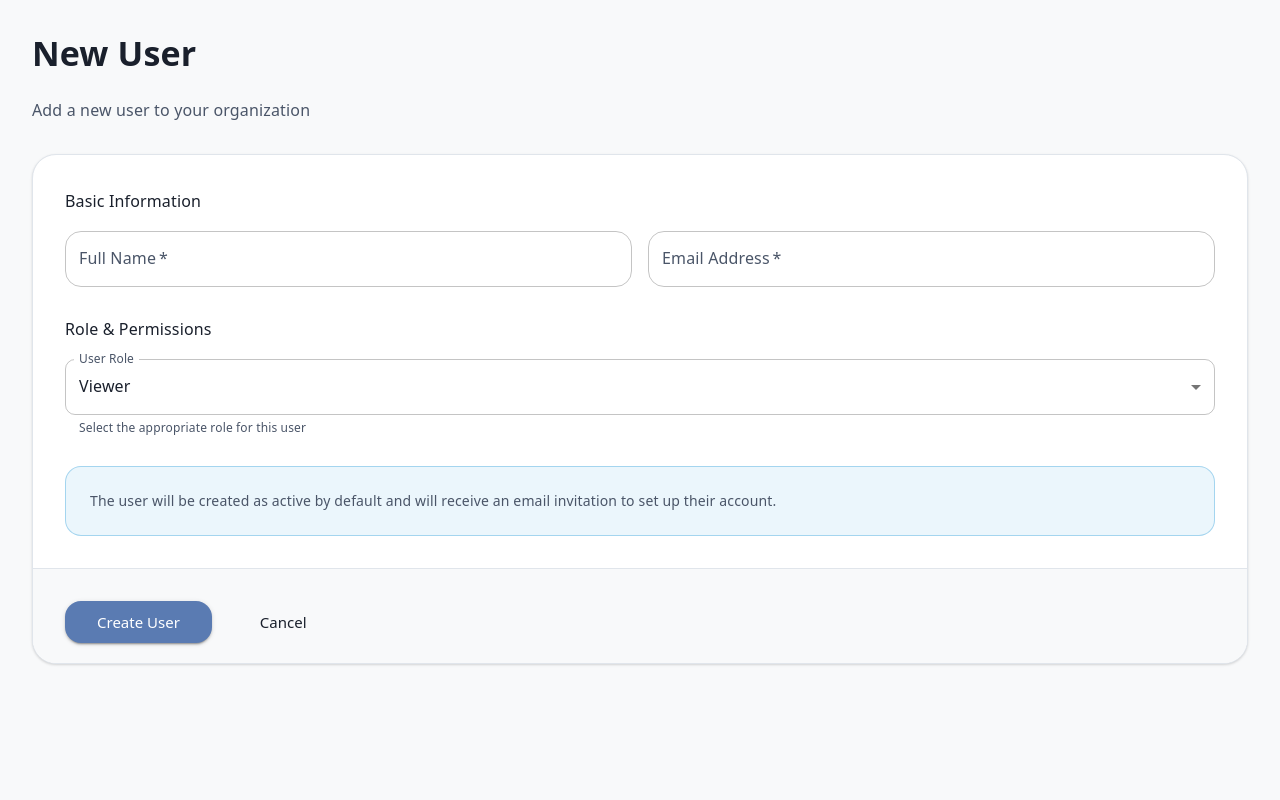
Test: UserNewFlow - Create User Integration › should show validation error when name is missing
Note: Only fill email
Step 1. Type "test@example.com" into the field labelled "Email Address *" → [932, 259], box [648,231,1215,287]
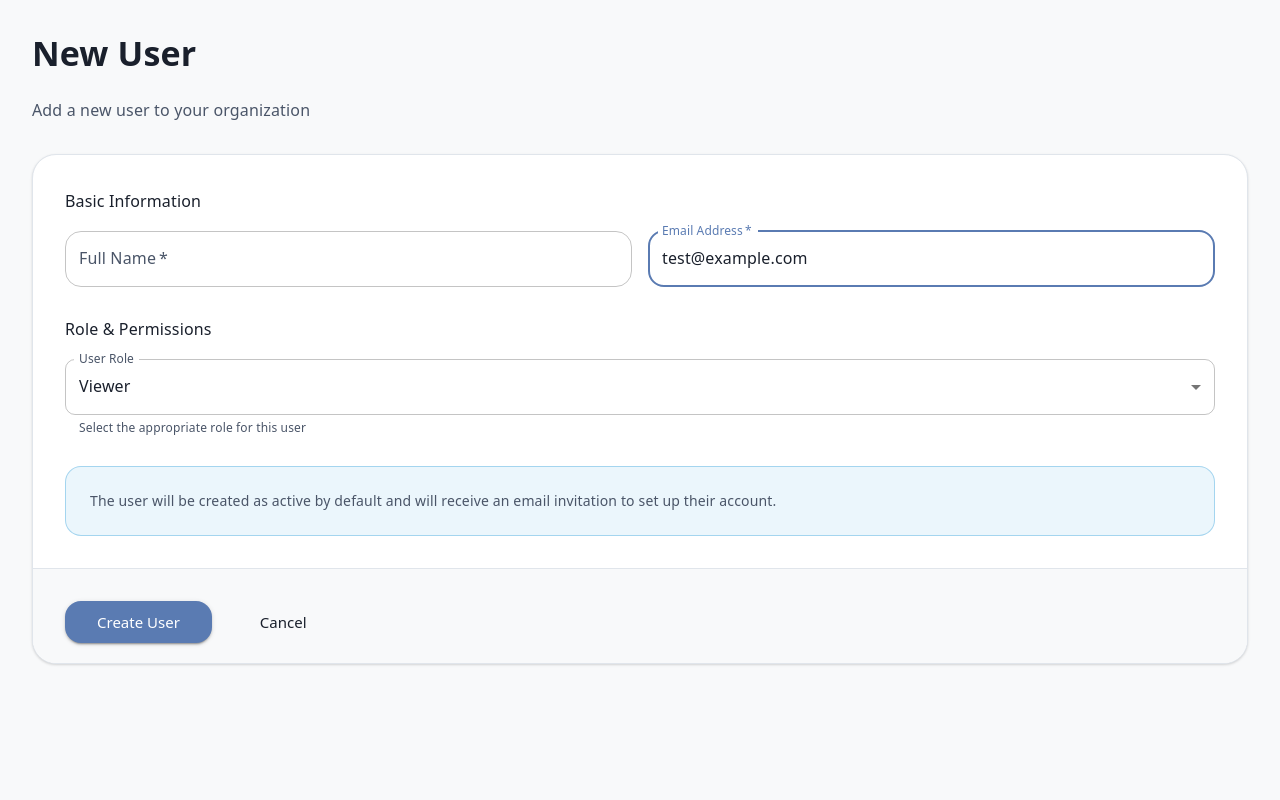
Note: Try to submit
Step 2. Click the button "Create User" → [138, 622], box [65,601,212,643]
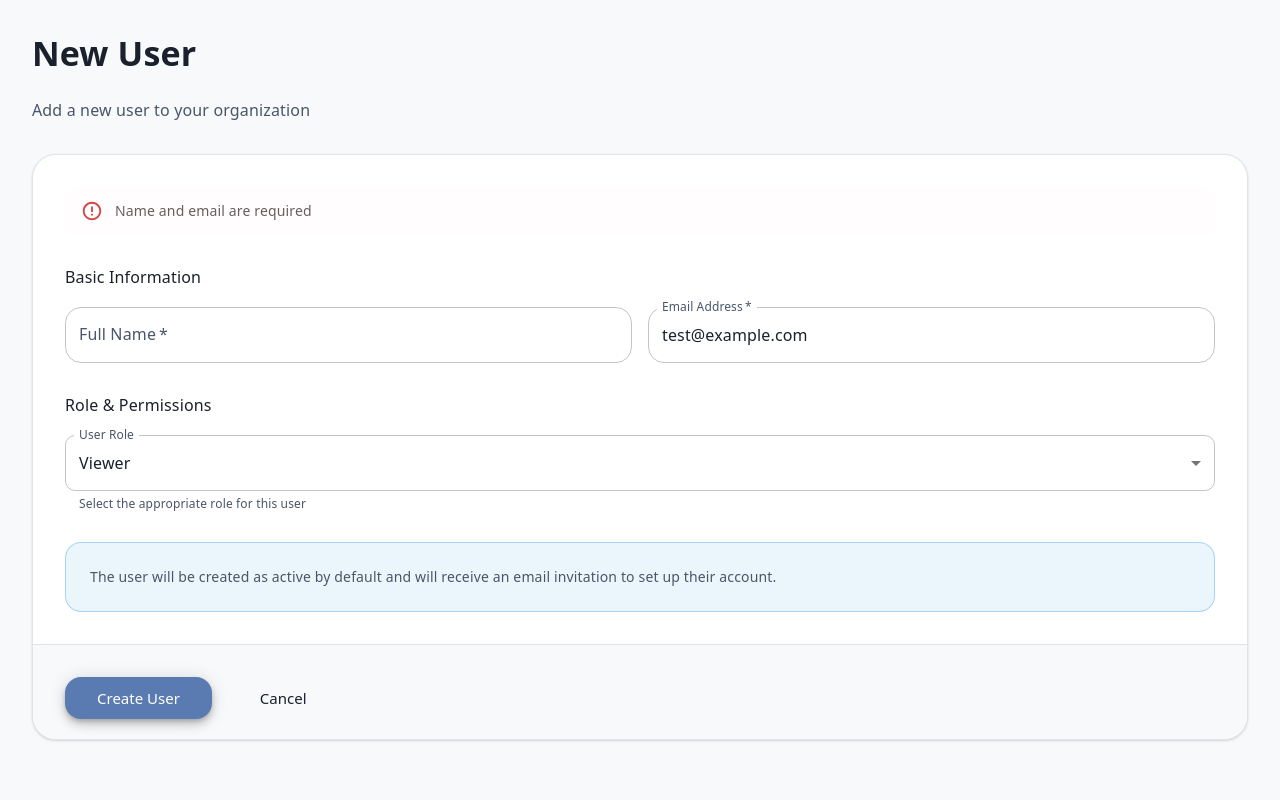
Check: the text "Name and email are required" is shown, box [115,201,312,220]
